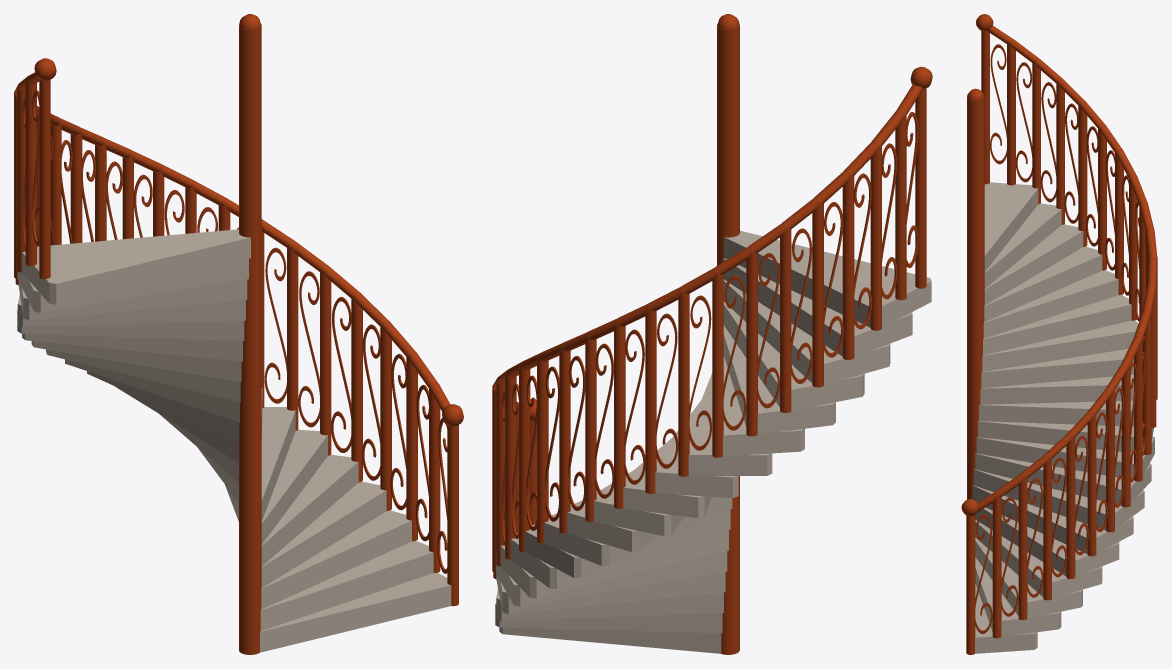
File: SpiralStaircase.fbx
3 views of the same model, side by side, from view 1: azimuth 30°, elevation 25°; view 2: azimuth 150°, elevation 25°; view 3: azimuth 270°, elevation 25° (orthographic). The views are drawn at different scales.
Visible parts, largest first — view 1: Floor.002, SpiralStaircase, Floor.003, Floor.004; view 2: Floor.002, SpiralStaircase, Floor.003, Floor.004; view 3: Floor.002, SpiralStaircase, Floor.003, Floor.004.
Part boxes in pixels (x1=…): Floor.002: x1=14, y1=75, x2=458, y2=652; SpiralStaircase: x1=239, y1=24, x2=261, y2=654; Floor.003: x1=25, y1=72, x2=39, y2=265; Floor.004: x1=39, y1=79, x2=50, y2=279; Floor.002: x1=492, y1=110, x2=931, y2=653; SpiralStaircase: x1=717, y1=23, x2=739, y2=654; Floor.003: x1=895, y1=84, x2=922, y2=300; Floor.004: x1=915, y1=88, x2=926, y2=288; Floor.002: x1=966, y1=39, x2=1157, y2=654; SpiralStaircase: x1=967, y1=97, x2=984, y2=499; Floor.003: x1=988, y1=25, x2=1015, y2=185; Floor.004: x1=981, y1=31, x2=989, y2=184.
Size of the model in its own units: 420 by 610 by 222.
